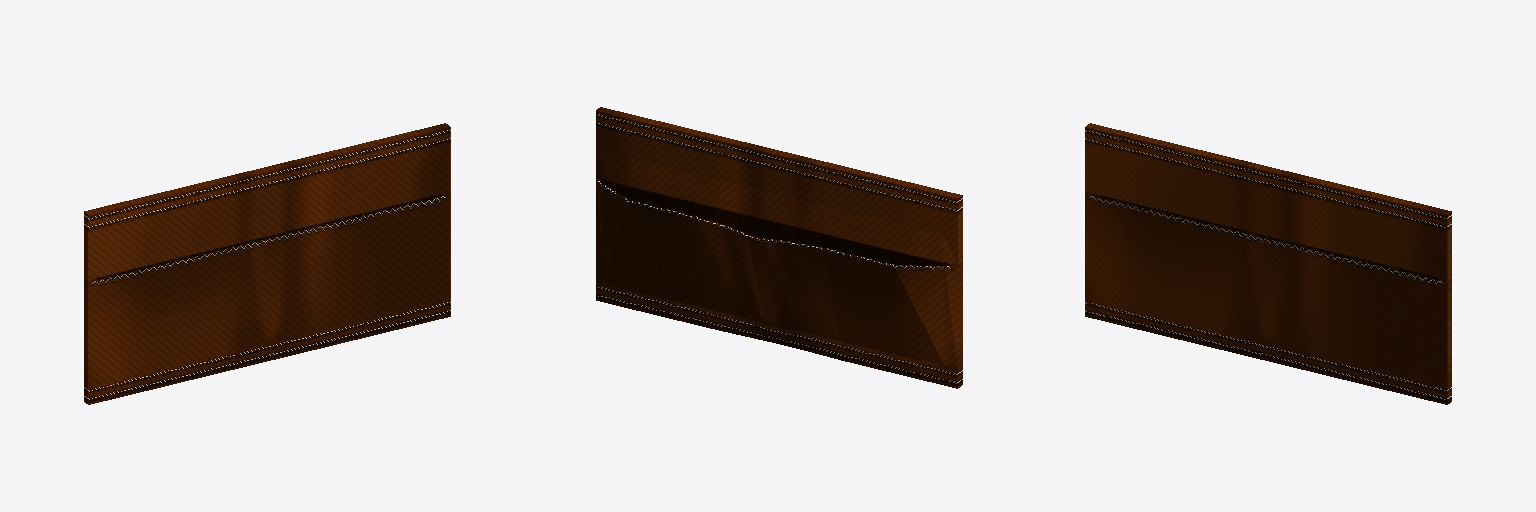
The picture shows the model from 3 angles: view 1: azimuth 30°, elevation 25°; view 2: azimuth 150°, elevation 25°; view 3: azimuth 330°, elevation 25°; orthographic projection.
Size of the model in its own units: 3.99 by 2 by 0.517.
1 materials, 1 textured.